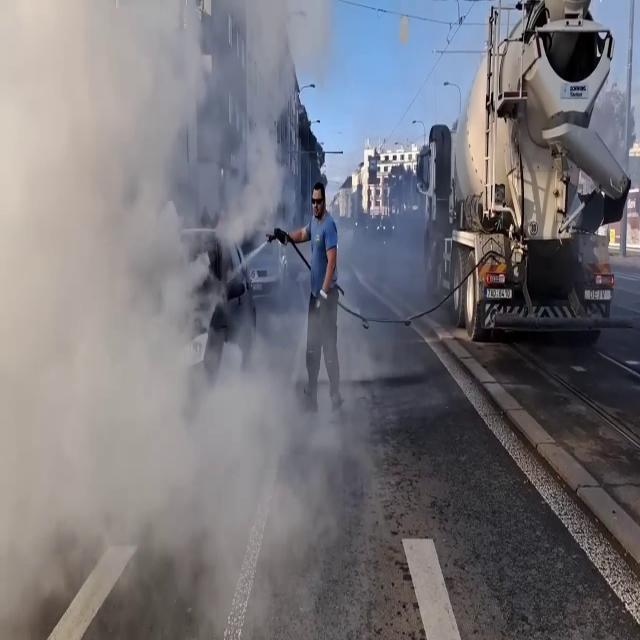Smoke: (0, 0, 342, 638)
